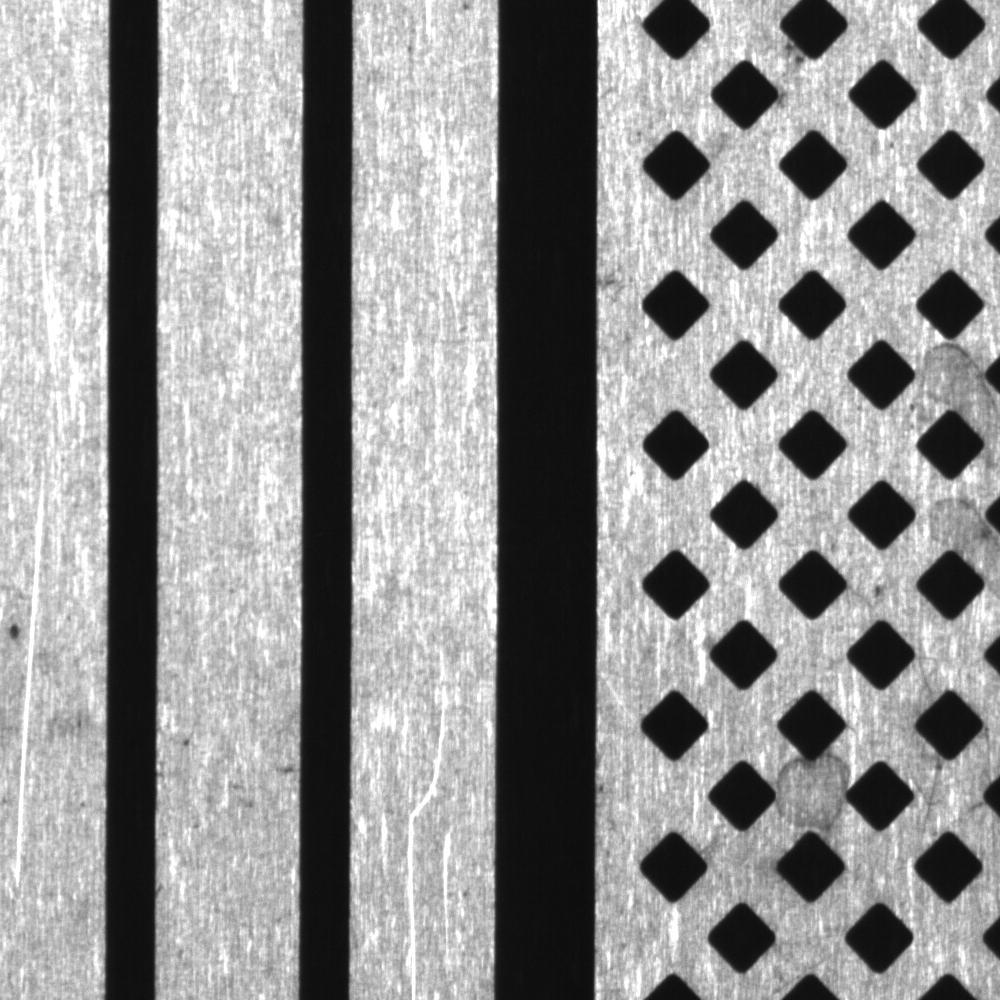Discolor: (761, 741, 861, 838), (914, 330, 994, 421), (916, 477, 1000, 560)
Etching: (165, 717, 210, 761), (1, 603, 33, 662), (273, 754, 298, 779)
Scar: (913, 749, 950, 840), (911, 635, 945, 703)
